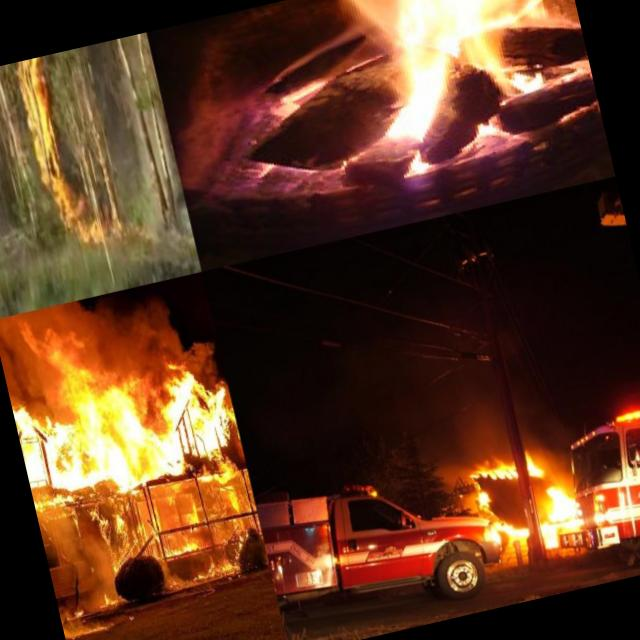fire: (286, 0, 598, 165), (7, 338, 246, 516), (454, 434, 586, 560), (76, 467, 256, 552), (13, 55, 91, 246), (13, 300, 92, 380)
smoke: (91, 517, 272, 615), (80, 278, 188, 365), (37, 508, 92, 578), (52, 571, 107, 640), (0, 315, 29, 385)
